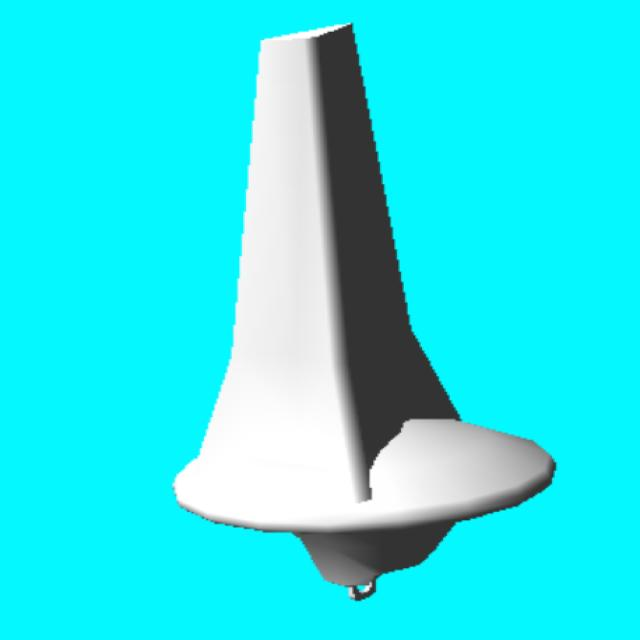WhiteBuoy: (172, 24, 556, 602)
